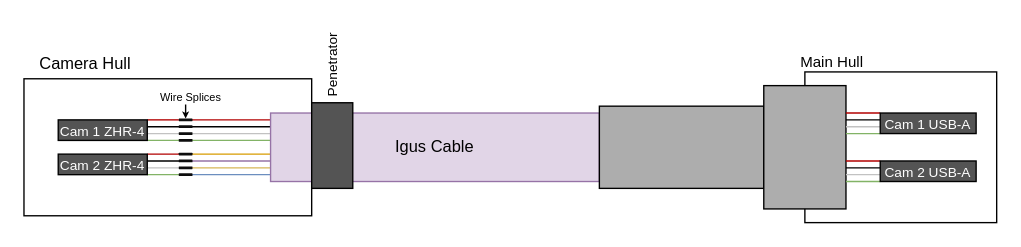
Some shapes in this 1021 by 247 pixel diagram are drawn without their labels. The centre of each missing label's shape, as x and y in pixels:
"Fischer Plug" goes at (x=681, y=146).
"Fischer Recepticle" goes at (x=804, y=146).
